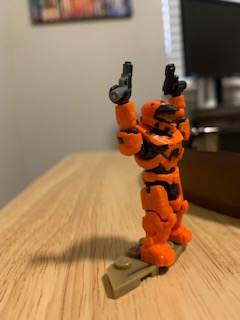pistol: (109, 58, 135, 102), (160, 59, 188, 98)
spartan: (107, 83, 195, 272)
up: (108, 82, 193, 176)
